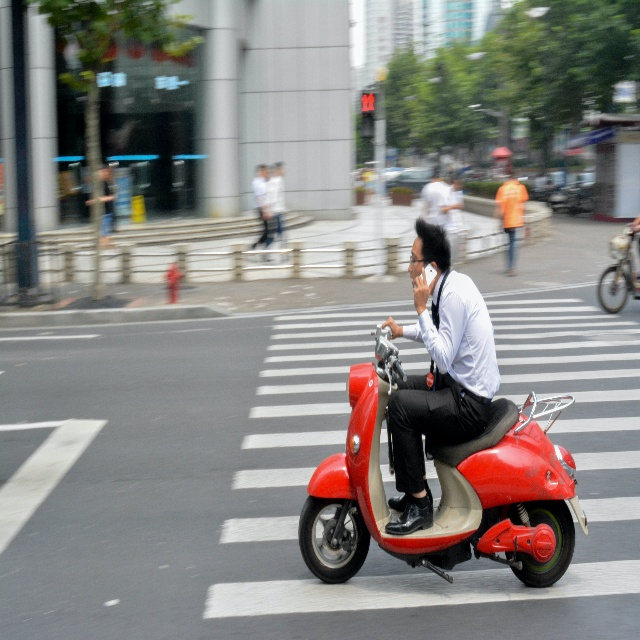Sin_guantes: (411, 267, 436, 312), (382, 315, 400, 340)
